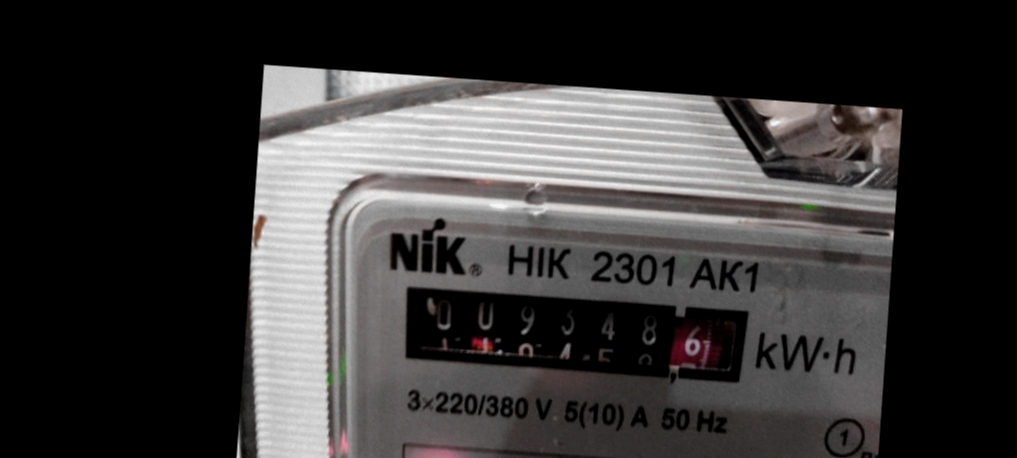0: (475, 297, 498, 334), (434, 296, 456, 333)
3: (557, 304, 581, 337)
4: (596, 307, 620, 345)
6: (682, 323, 707, 358)
8: (639, 312, 661, 347)
9: (518, 301, 538, 336)
screen: (379, 271, 770, 399)
